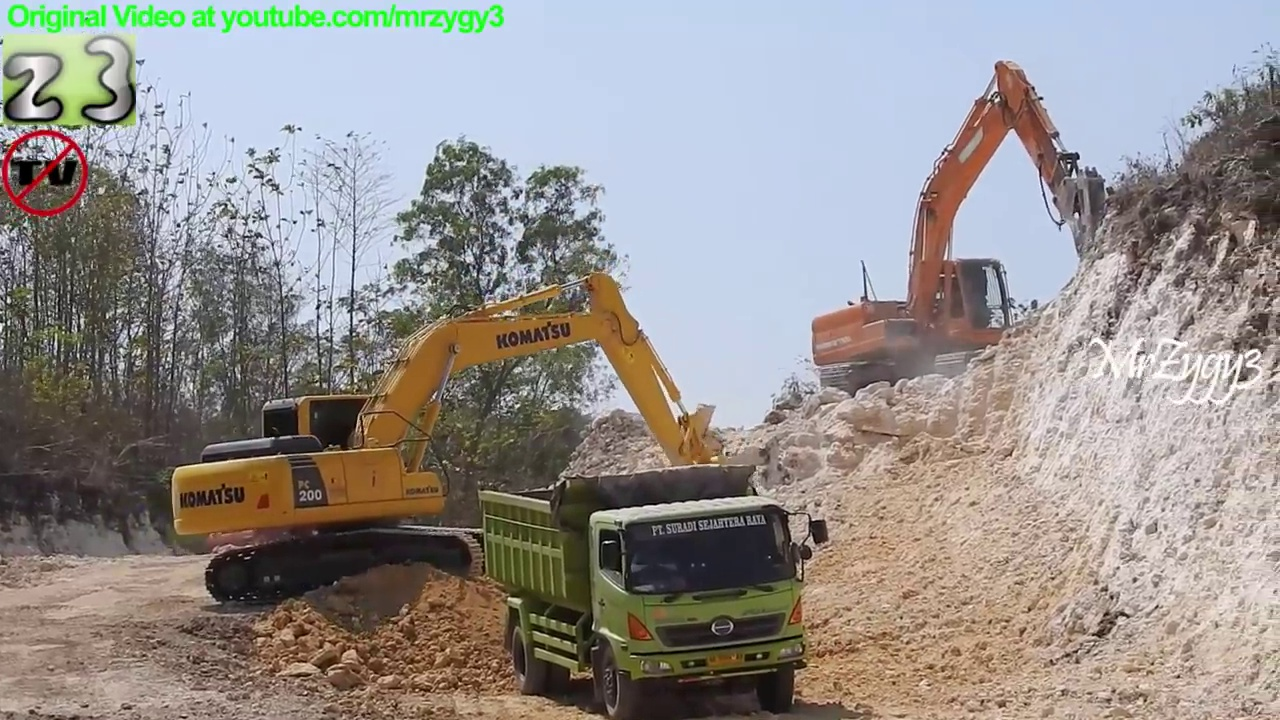excavator: (169, 269, 755, 614), (807, 55, 1116, 412)
truck: (479, 464, 836, 720)
